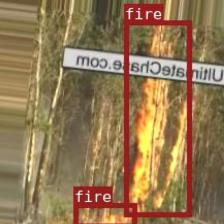fire: (123, 19, 191, 216), (73, 202, 135, 224)
